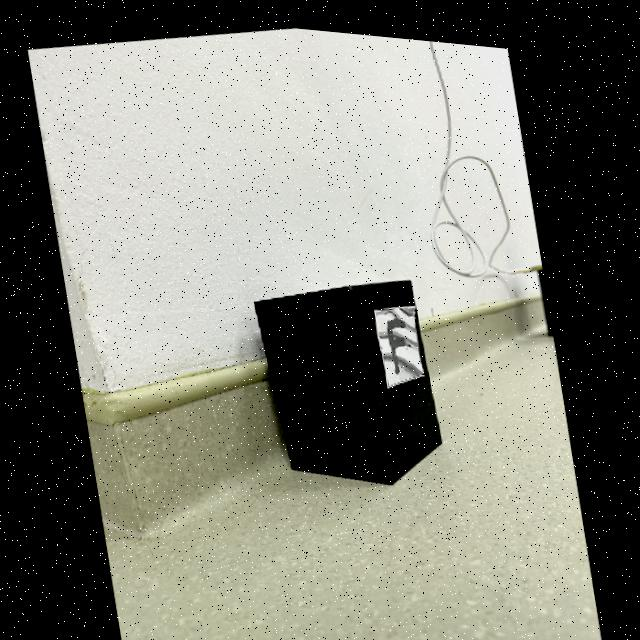F: (388, 309, 407, 365)
